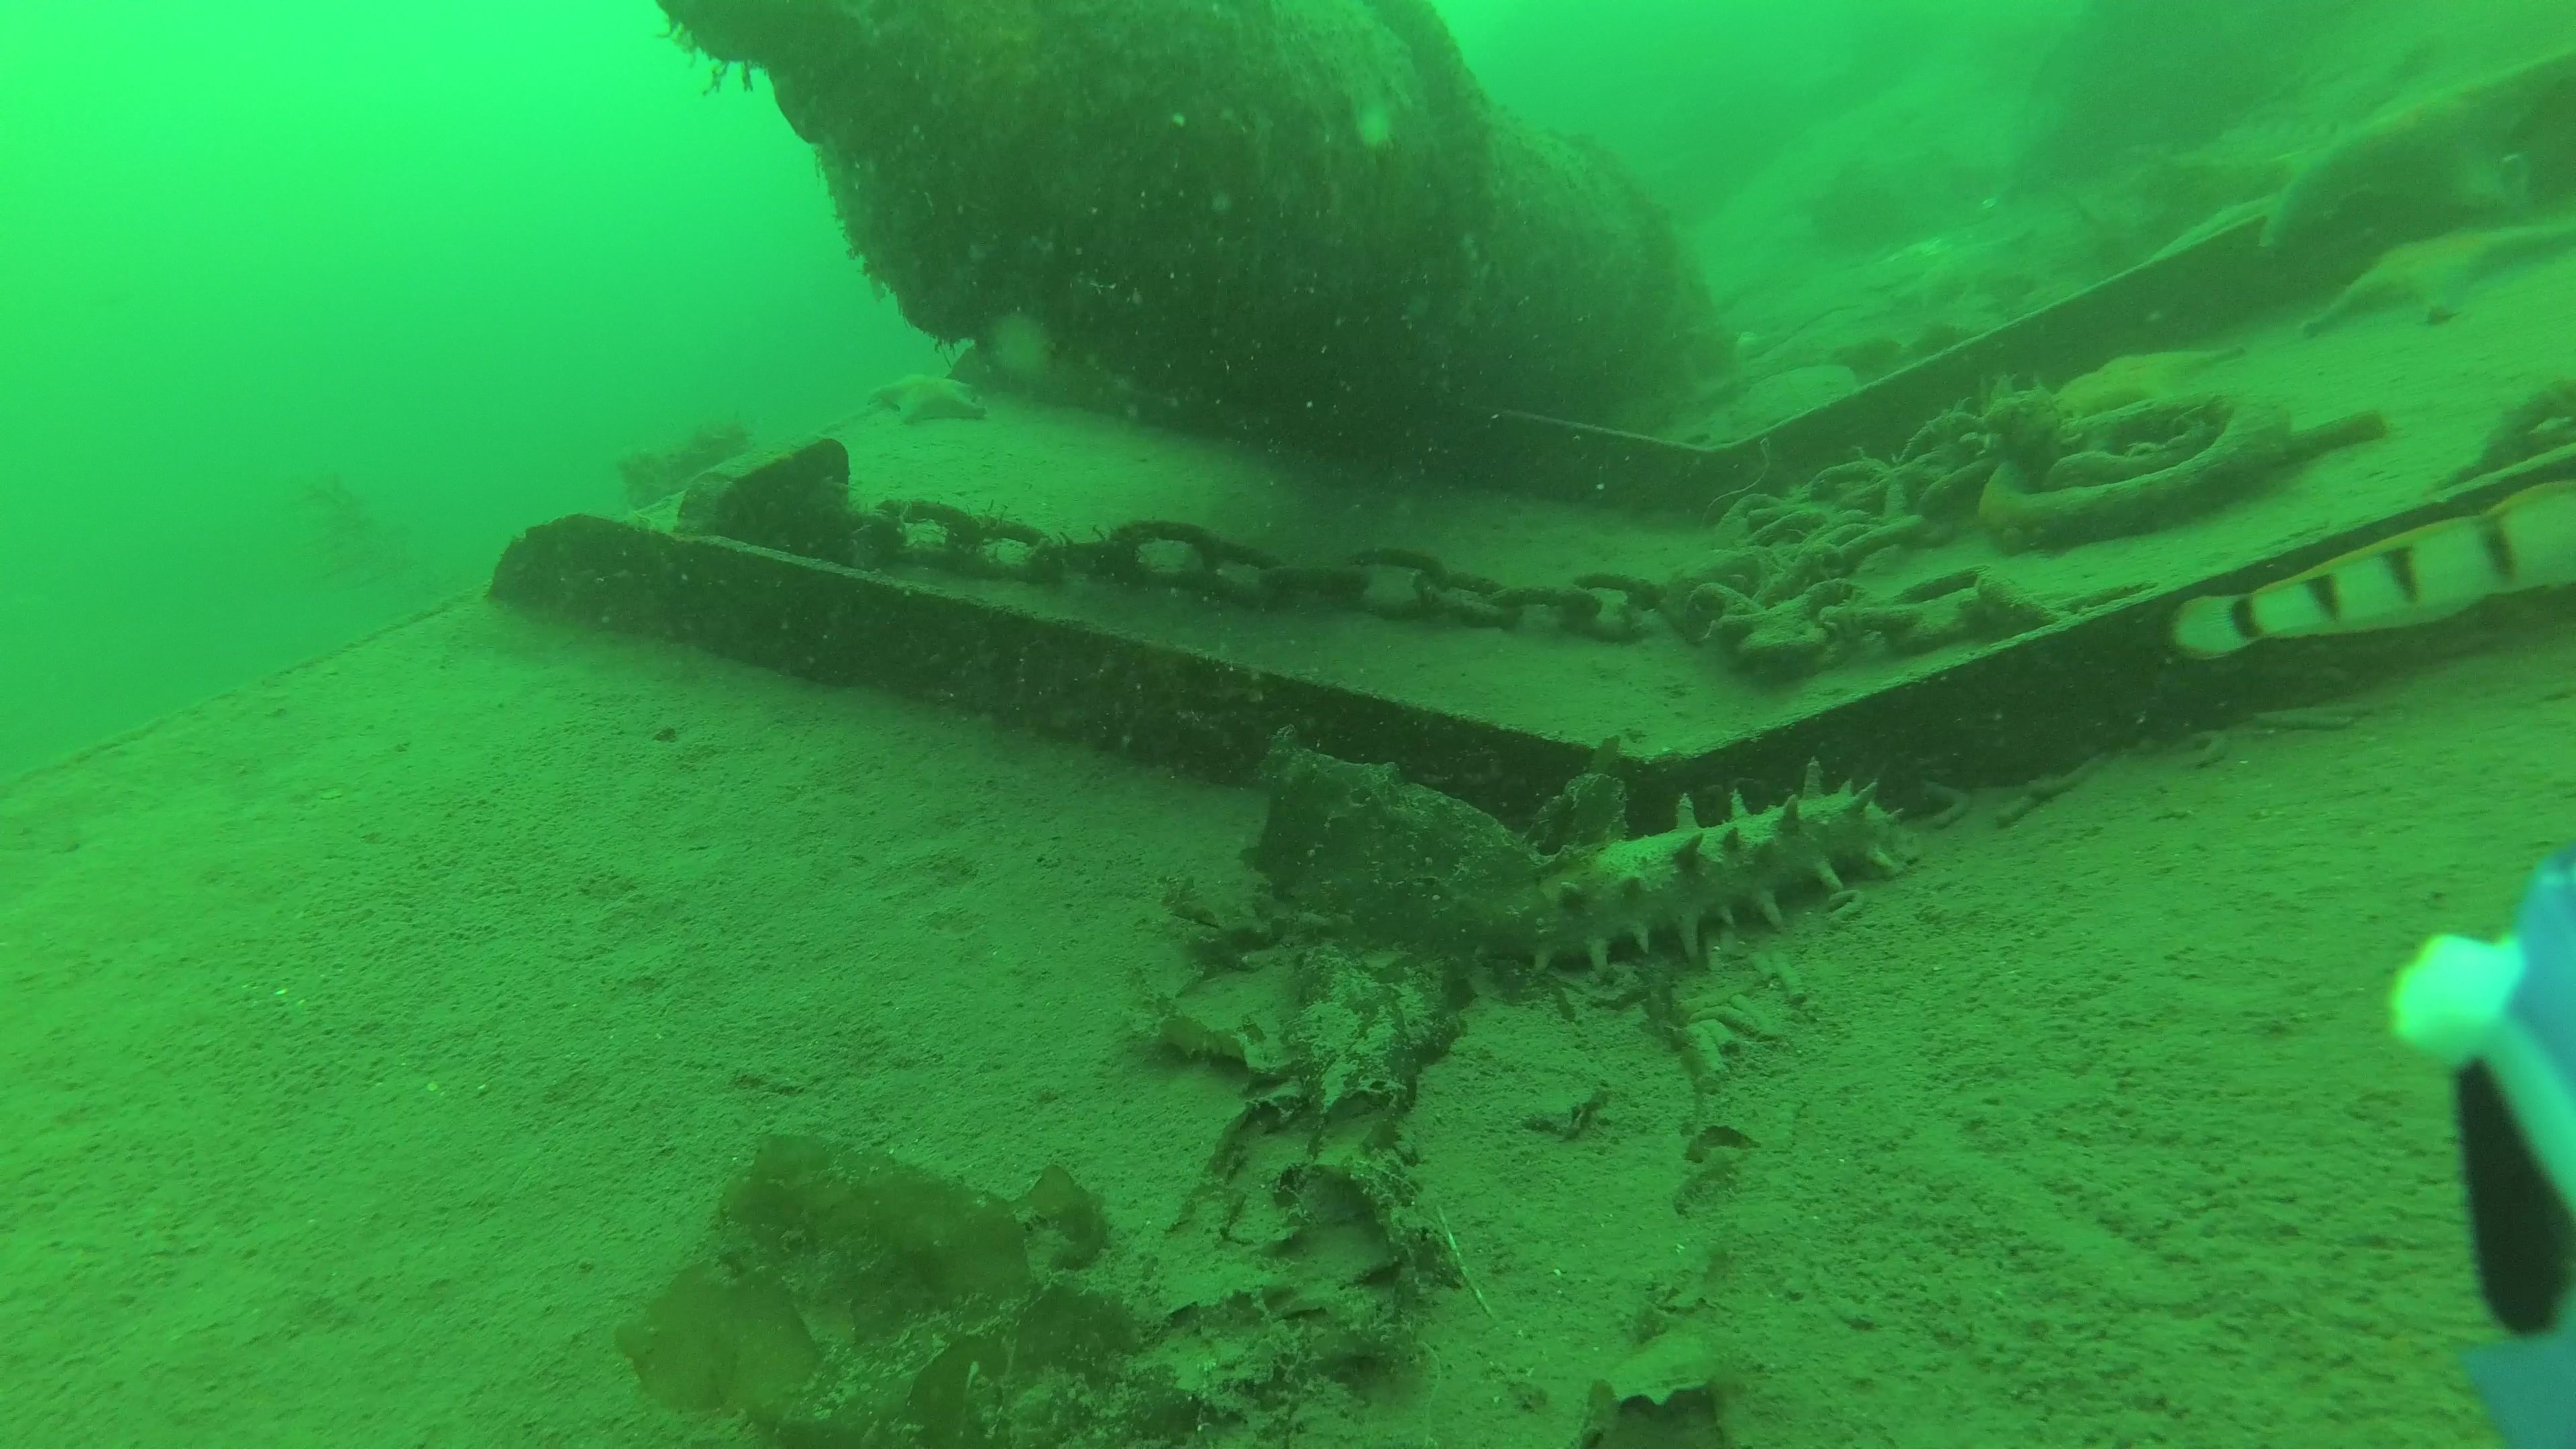holothurian: (1467, 759, 1918, 980)
starfish: (2247, 44, 2576, 246), (2304, 218, 2576, 338), (2051, 347, 2249, 419), (1884, 230, 2035, 303), (870, 366, 996, 426)
